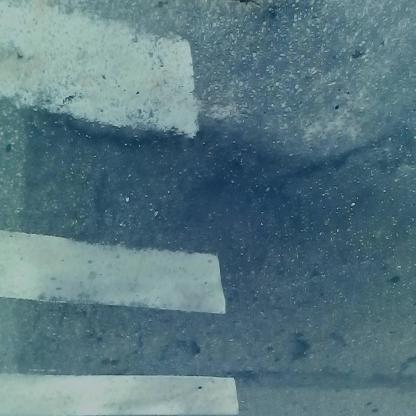crosswalk: (1, 27, 248, 416)
